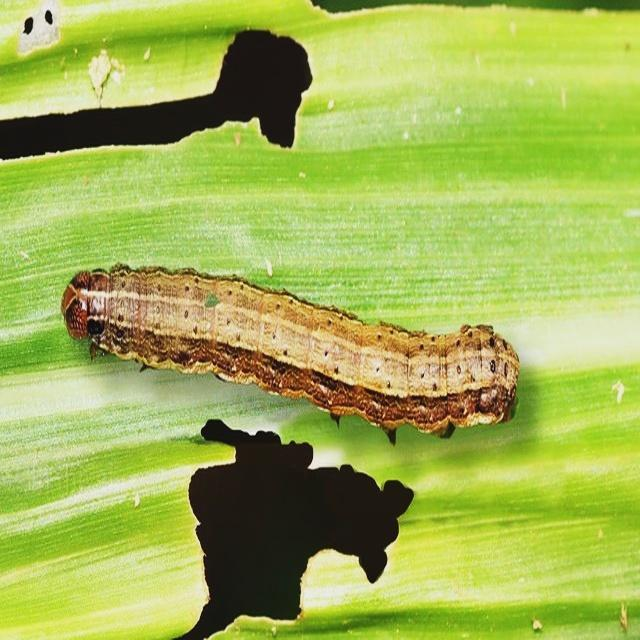pest: (63, 259, 527, 433)
